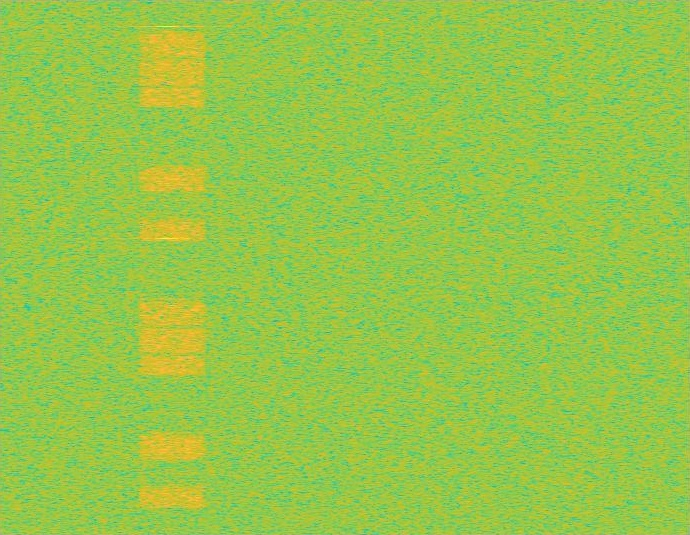LTE: (138, 0, 207, 534)
Radar: (160, 0, 174, 534)
